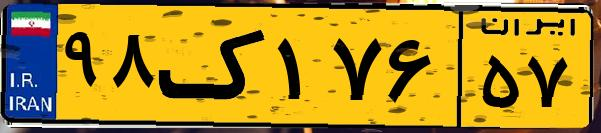1: (270, 28, 330, 110)
5: (475, 38, 525, 113)
6: (385, 28, 445, 110)
7: (330, 28, 385, 110), (525, 38, 570, 115)
8: (110, 28, 158, 98)
9: (57, 26, 110, 100)
ک: (158, 12, 270, 120)
